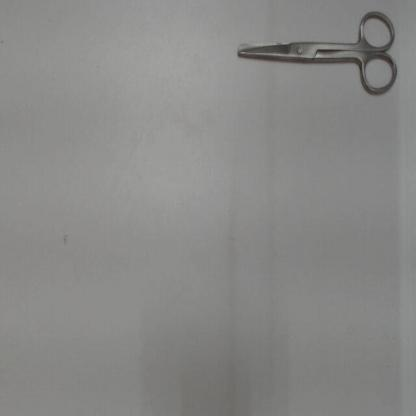Dressing Scissors: (224, 4, 403, 105)
